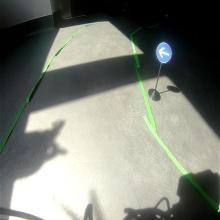left: (156, 41, 172, 64)
